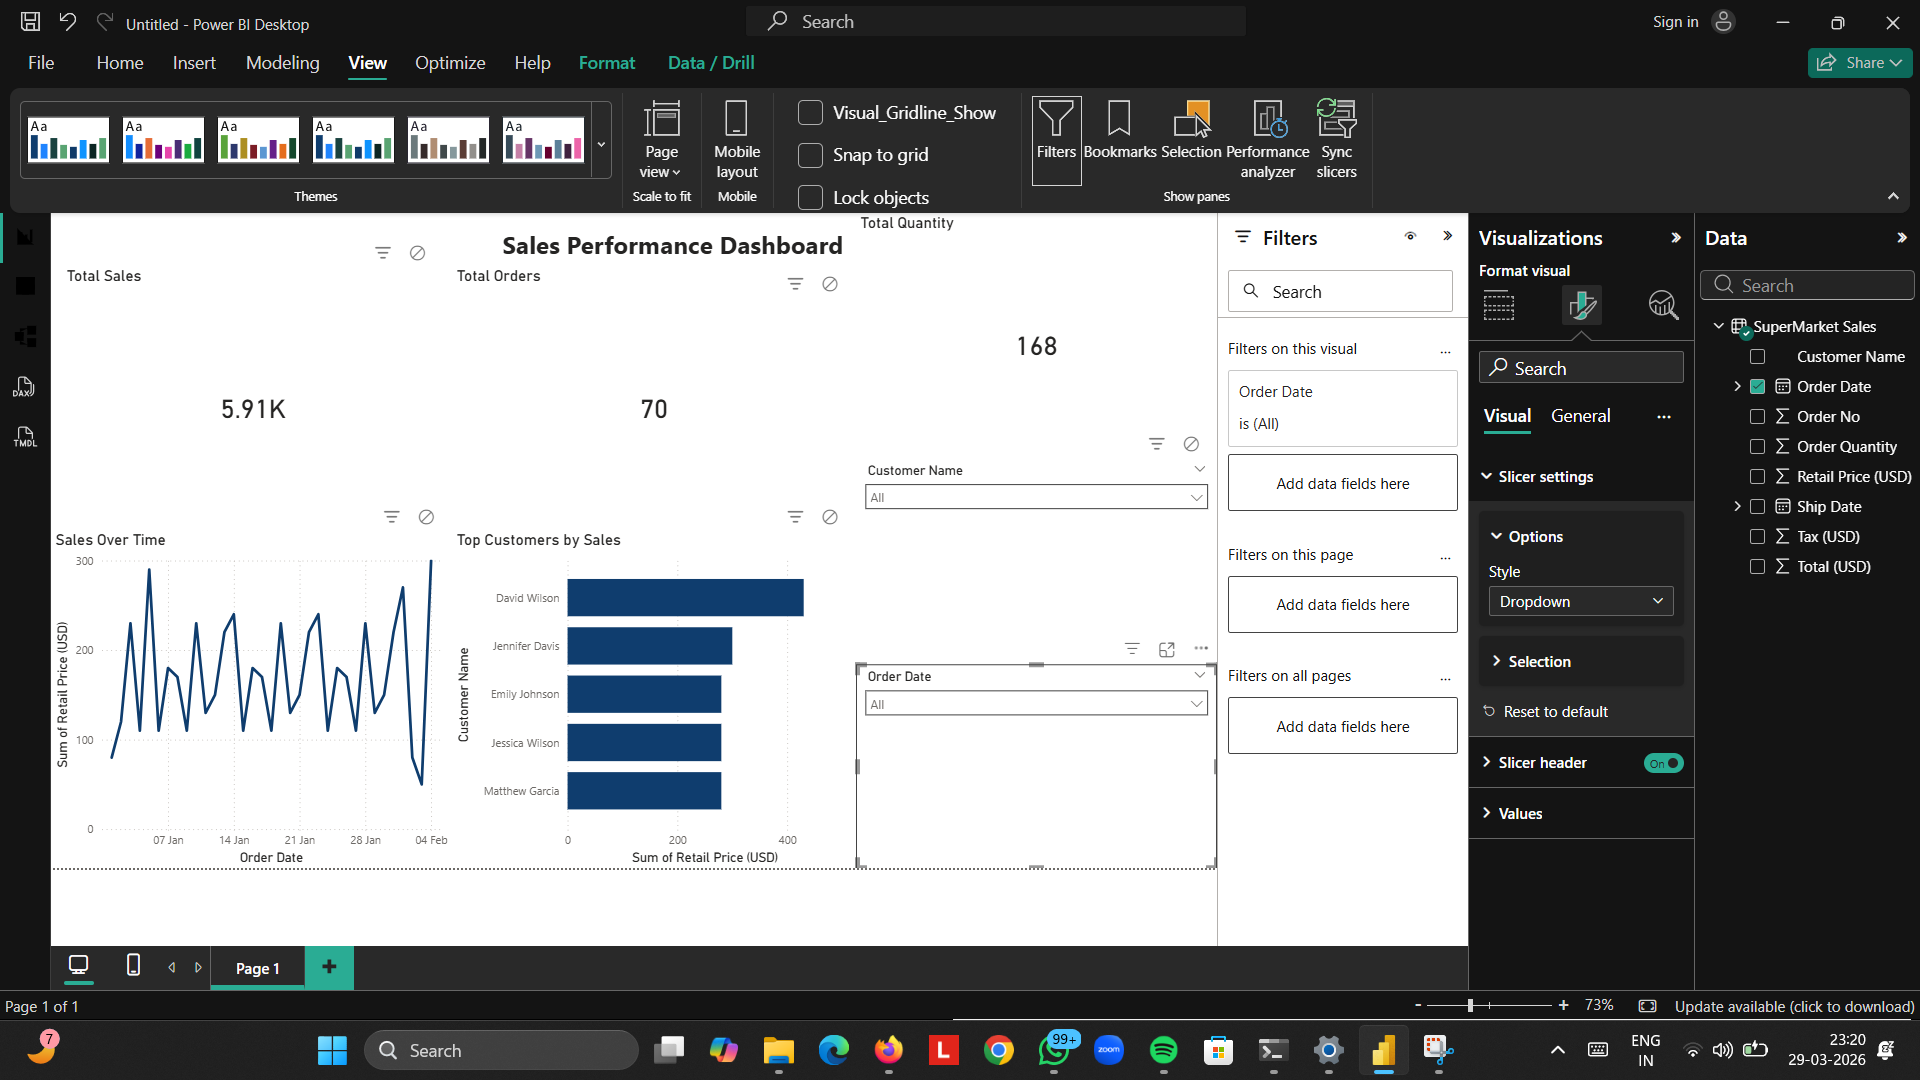

Layout of this report page (visuals, bound fields, positions):
{"tool":"powerbi","page":{"name":"Page 1","canvas":[1280,720],"ordinal":0},"visuals":[{"type":"card","title":"Total Sales","fields":{"Values":["Sum(SuperMarket Sales.Retail Price (USD))"]},"box":[12.3,59,418.5,289.5],"z":0},{"type":"card","title":"Total Quantity","fields":{"Values":["Sum(SuperMarket Sales.Order Quantity)"]},"box":[883.7,0,396.6,269],"z":1000},{"type":"card","title":"Total Orders","fields":{"Values":["CountNonNull(SuperMarket Sales.Order No)"]},"box":[440.5,59,443.2,289.5],"z":2000},{"type":"lineChart","title":"Sales Over Time","fields":{"Y":["Sum(SuperMarket Sales.Retail Price (USD))"],"Category":["SuperMarket Sales.Order Date"]},"box":[0,348.5,440.5,371.9],"z":3000},{"type":"clusteredBarChart","title":"Top Customers by Sales","fields":{"Category":["SuperMarket Sales.Customer Name"],"Y":["Sum(SuperMarket Sales.Retail Price (USD))"]},"box":[440.5,348.5,443.2,371.9],"z":4000},{"type":"slicer","fields":{"Values":["SuperMarket Sales.Customer Name"]},"box":[883.7,269,396.6,226.4],"z":4001},{"type":"slicer","fields":{"Values":["SuperMarket Sales.Order Date"]},"box":[883.7,495.4,396.6,225],"z":4002},{"type":"textbox","box":[481.6,11,402.1,48],"z":4003}]}

Visuals, with their boxes on the page's 1280x720 design canvas (x1, y1, x2, y2). These are canvas units, not pixel positions in the 1920x1080 screenshot, which may show the page scaled, cropped or inside an application window:
"Total Sales" card: (12,59,431,348)
"Total Quantity" card: (884,0,1280,269)
"Total Orders" card: (440,59,884,348)
"Sales Over Time" lineChart: (0,348,440,720)
"Top Customers by Sales" clusteredBarChart: (440,348,884,720)
slicer - SuperMarket Sales.Customer Name: (884,269,1280,495)
slicer - SuperMarket Sales.Order Date: (884,495,1280,720)
textbox: (482,11,884,59)
